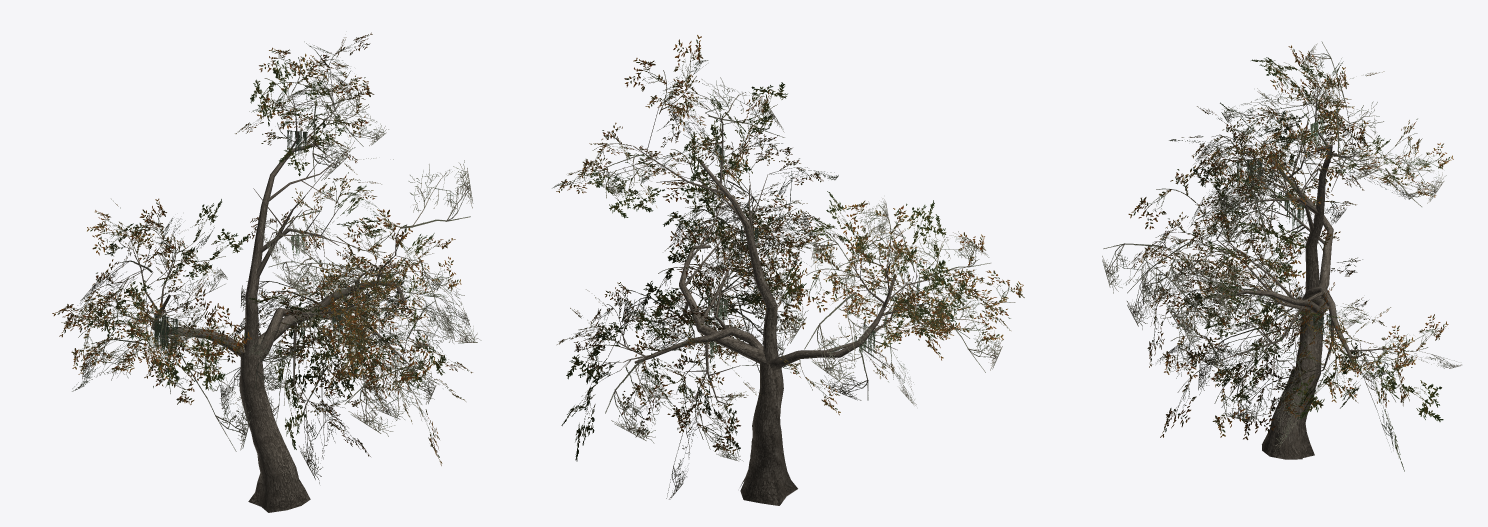
Rendered from tree_v6_decid_gothic_twisted_autumn.glb.
3 renders of one model, left to right at view 1: azimuth 30°, elevation 25°; view 2: azimuth 150°, elevation 25°; view 3: azimuth 270°, elevation 25°, orthographic. The views are drawn at different scales.
Visible parts, largest first — view 1: tree_v6_decid_gothic_twisted_autumn_LOD0; view 2: tree_v6_decid_gothic_twisted_autumn_LOD0; view 3: tree_v6_decid_gothic_twisted_autumn_LOD0.
Part boxes in pixels (bbox=[...]): tree_v6_decid_gothic_twisted_autumn_LOD0: bbox=[52, 32, 481, 512]; tree_v6_decid_gothic_twisted_autumn_LOD0: bbox=[552, 35, 1024, 505]; tree_v6_decid_gothic_twisted_autumn_LOD0: bbox=[1102, 41, 1461, 471].
Size of what is drawn, in the model's own units: 11.08 by 10.47 by 7.85.
1 material, 1 textured.
